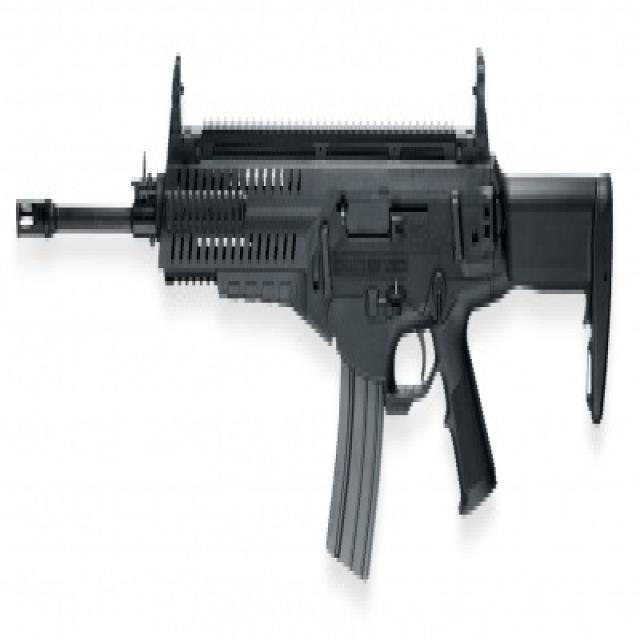rifle: (10, 38, 620, 595)
